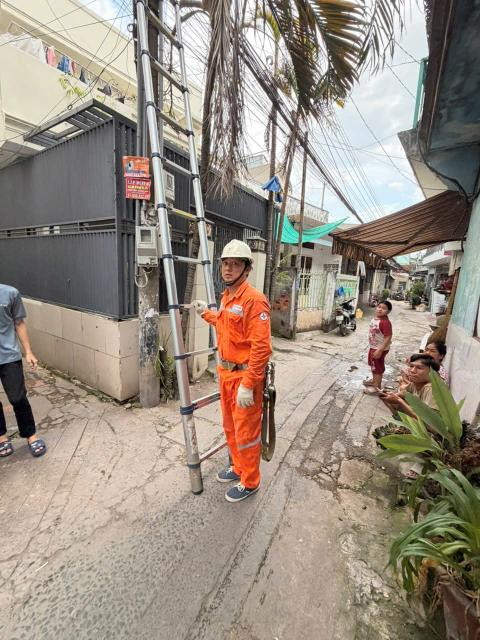gloves: (232, 378, 260, 412), (194, 295, 211, 322)
harness: (211, 352, 255, 380)
helmet: (217, 232, 265, 271)
shoes: (228, 475, 262, 500), (217, 461, 252, 482)
